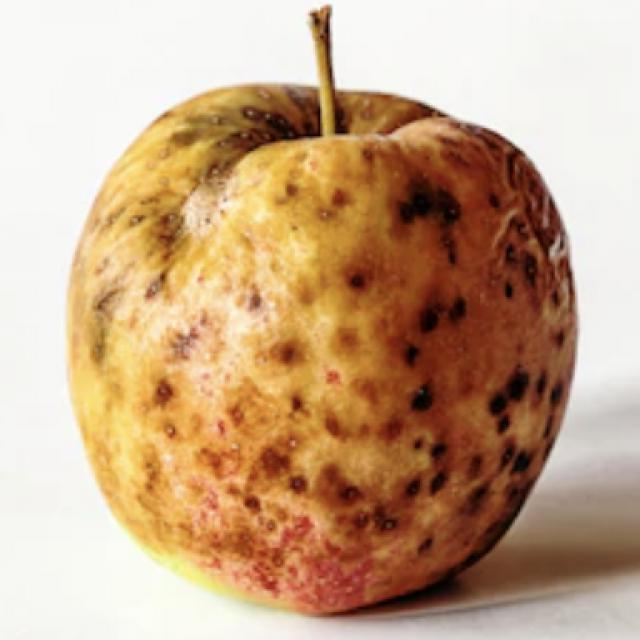Rotten Apple: (45, 72, 590, 625)
